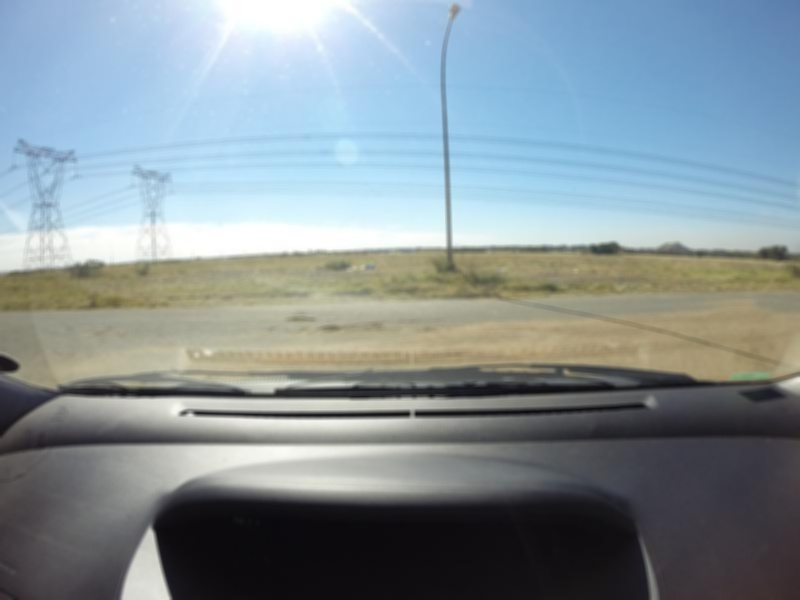pothole: (318, 323, 384, 333), (285, 313, 321, 320), (400, 319, 418, 325)
